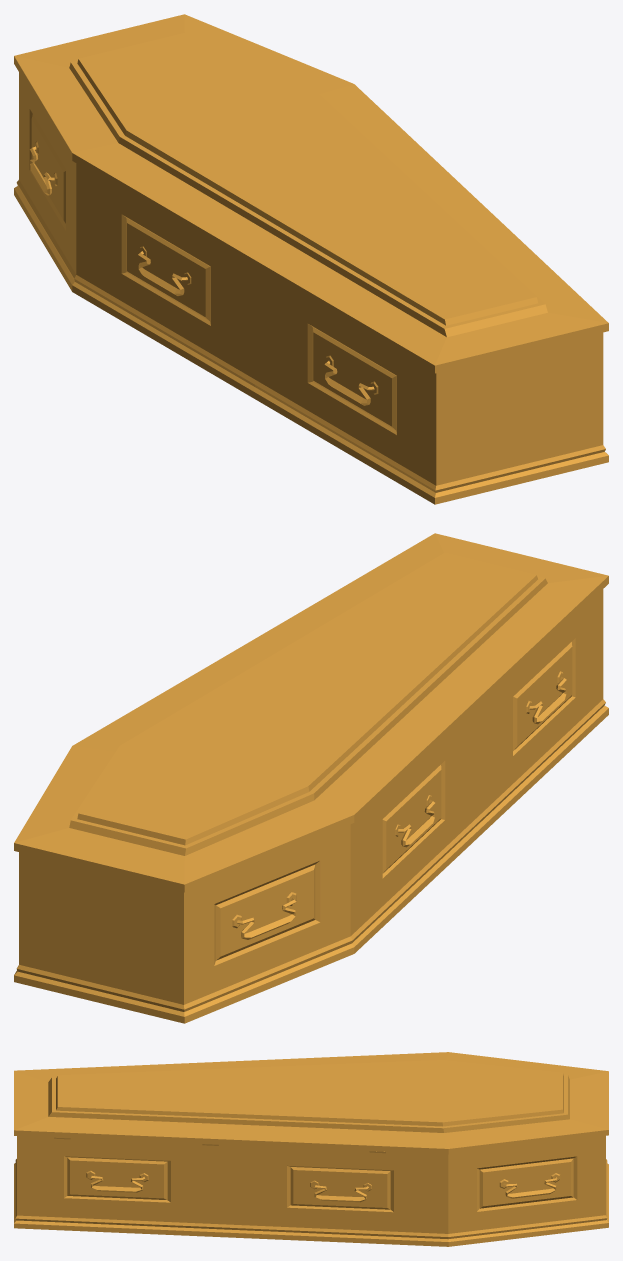
The model's file is coffin-new.fbx.
The picture shows the model from 3 angles, top to bottom: view 1: azimuth 30°, elevation 25°; view 2: azimuth 150°, elevation 25°; view 3: azimuth 270°, elevation 25°; orthographic projection. The views are drawn at different scales.
Parts seen in each view (by area): view 1: coffin-new-cover, coffin-new-base; view 2: coffin-new-cover, coffin-new-base; view 3: coffin-new-base, coffin-new-cover.
Part boxes in pixels (left/top/right/bottom): coffin-new-cover: left=14, top=14, right=608, bottom=373; coffin-new-base: left=14, top=72, right=608, bottom=504; coffin-new-cover: left=14, top=533, right=608, bottom=892; coffin-new-base: left=14, top=589, right=608, bottom=1023; coffin-new-base: left=14, top=1136, right=608, bottom=1246; coffin-new-cover: left=14, top=1052, right=608, bottom=1154.
Size of the model in its own units: 0.7471 by 0.3855 by 1.94.
